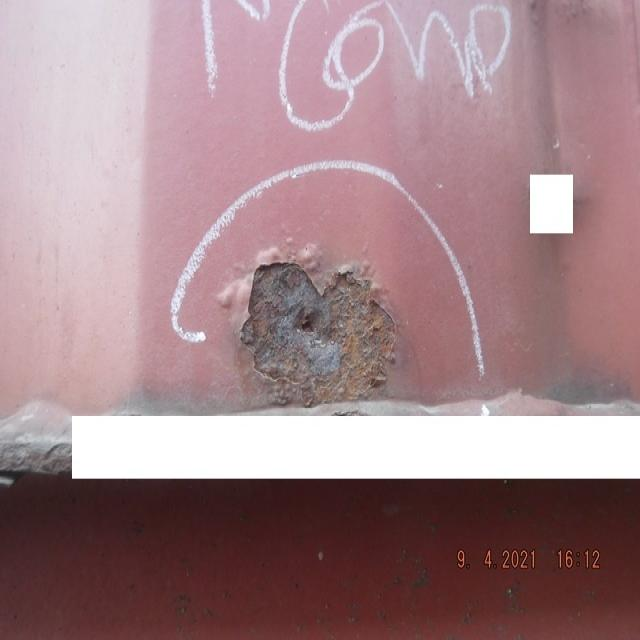rust: (217, 244, 404, 409)
